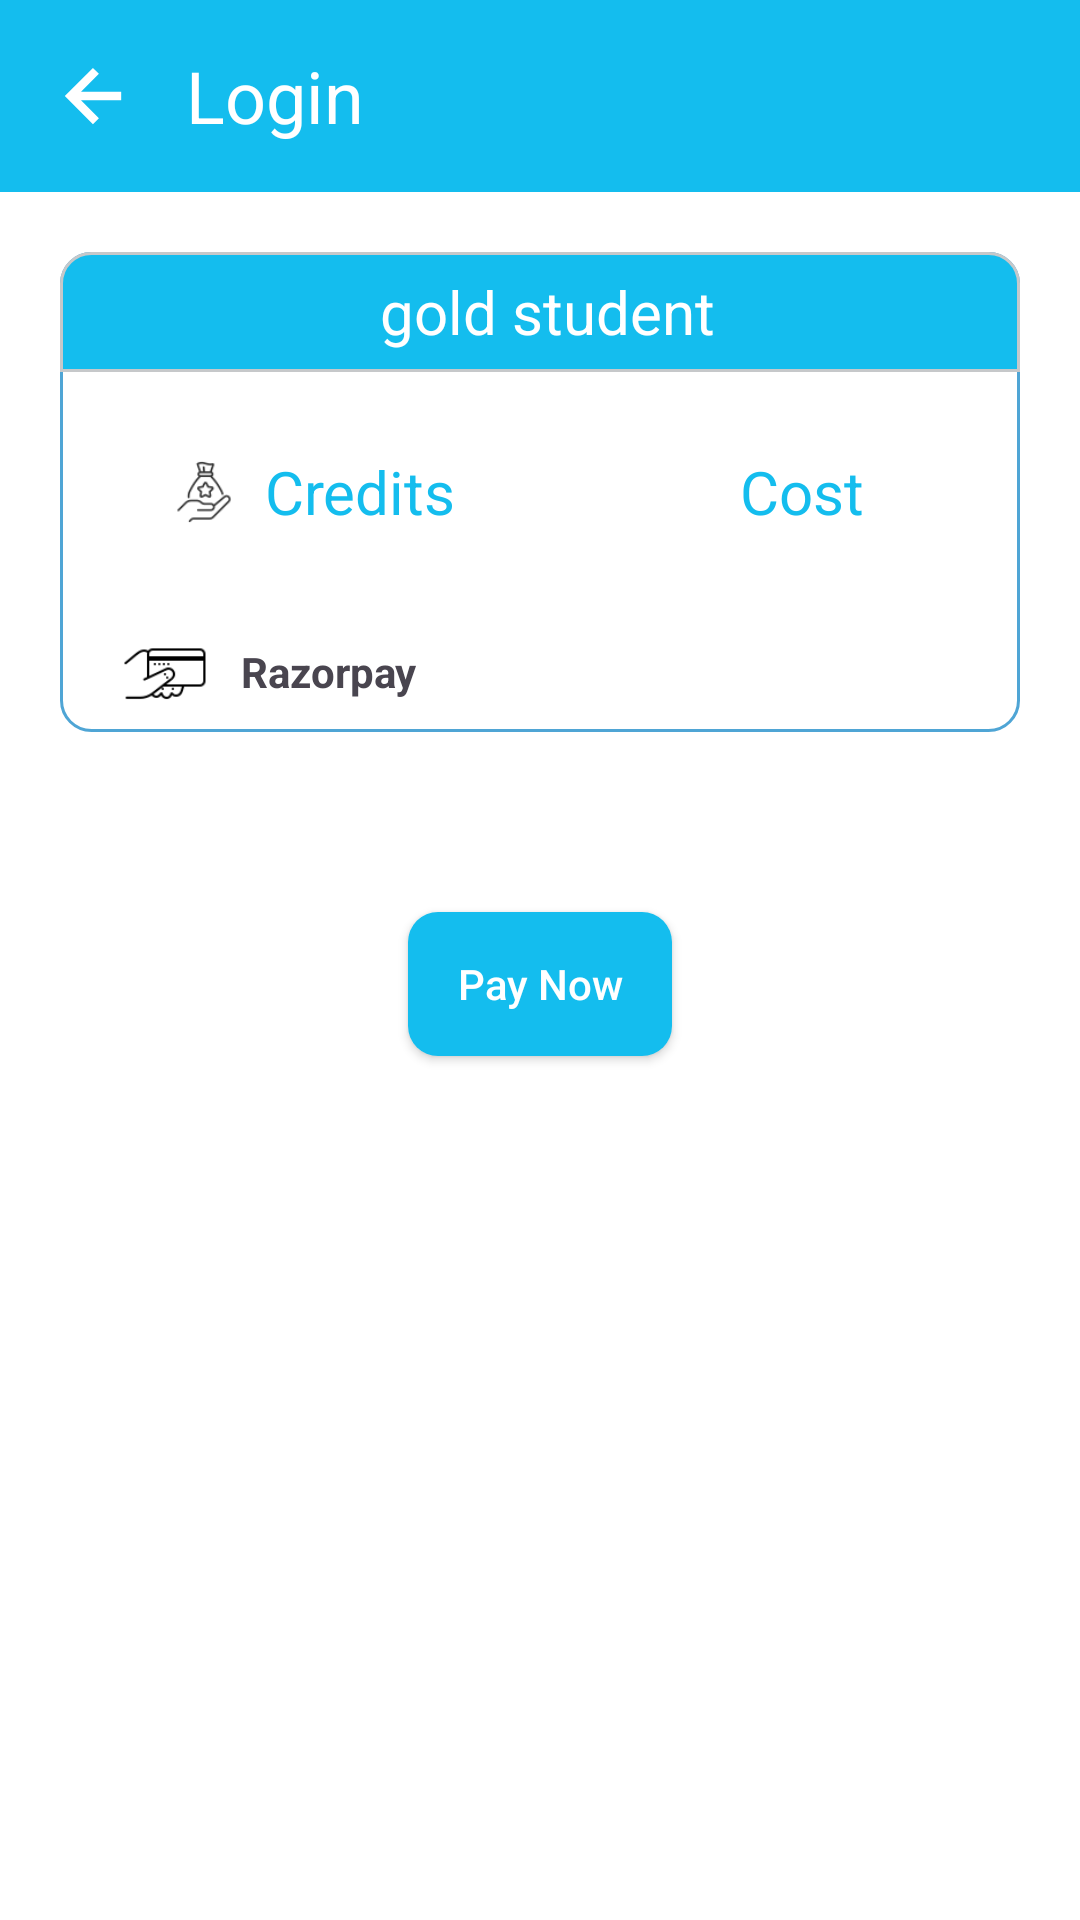

Screen size 1080w x 1920h. Icon name, then its box in pixels as (x1, y1, x2, y2):
back: (65, 68, 122, 124)
